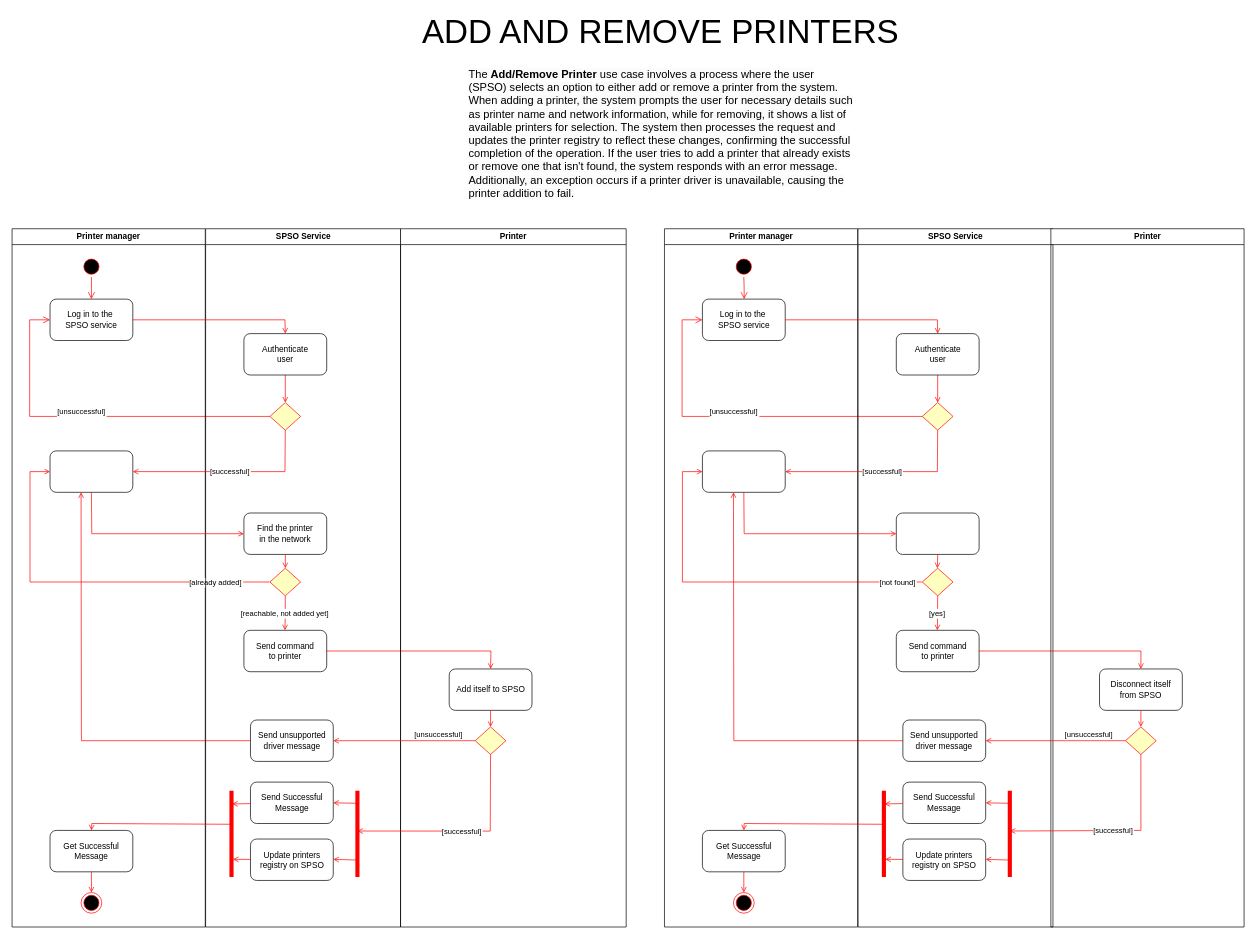
Some shapes in this 1256 by 939 pixel diagram are drawn without their labels. The box of each missing label's shape, as (x1, y1, x2, y2) in pixels:
Check if Printer Existance: (896, 512, 979, 554)
Select Printer to Add: (49, 450, 133, 492)
Select Printer to Remove: (702, 450, 785, 492)
